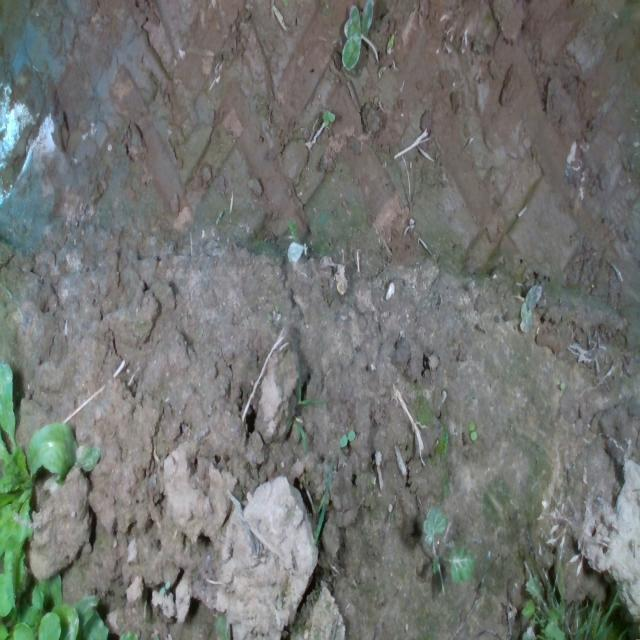weed: (338, 428, 356, 448), (467, 420, 477, 442)
